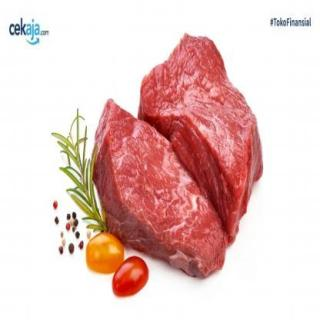Daging Sapi: (94, 36, 264, 280), (140, 37, 264, 246), (94, 102, 228, 279)
